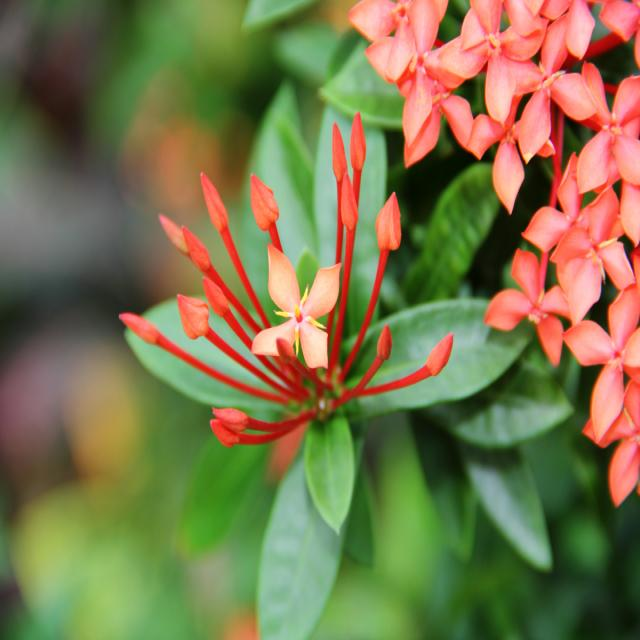Chinese-Ixora: (347, 0, 640, 514), (117, 102, 454, 472)
